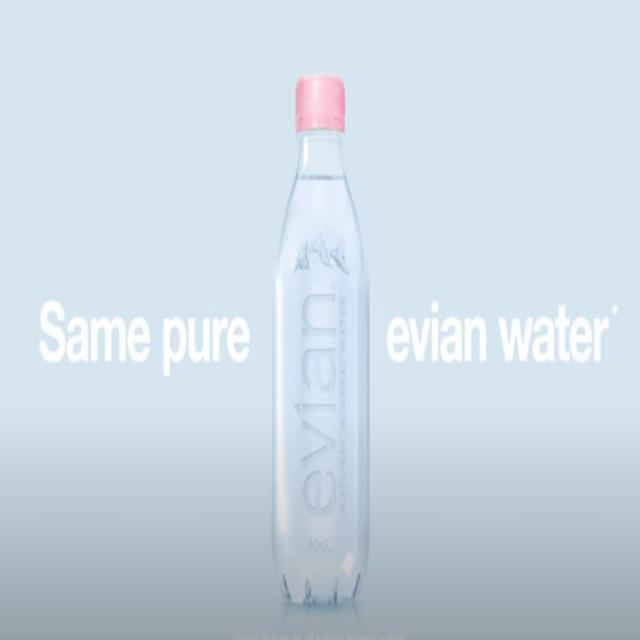bottle: (266, 49, 375, 624)
